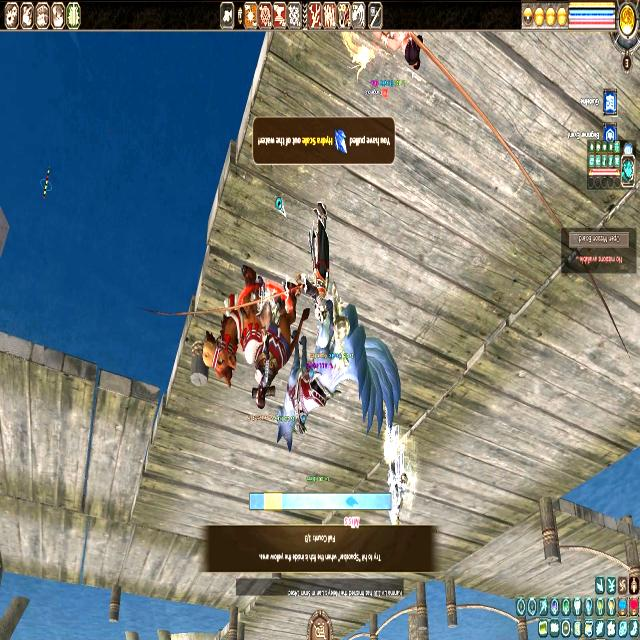fishes: (346, 494, 358, 508)
